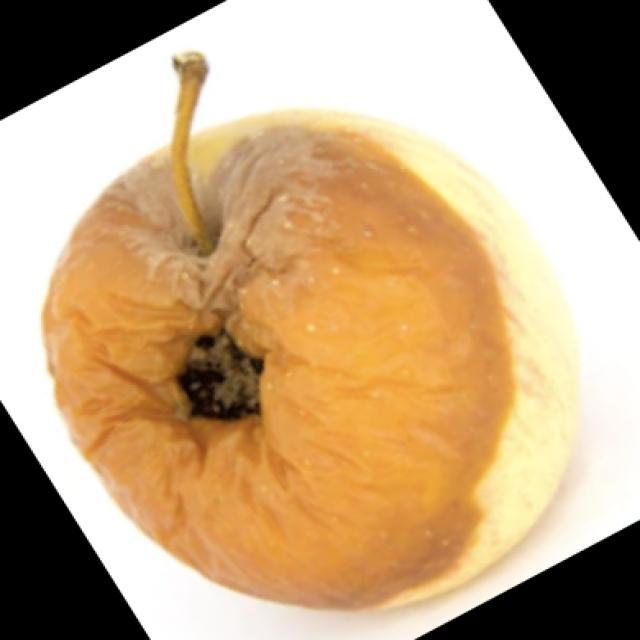Rotten: (69, 115, 528, 598)
